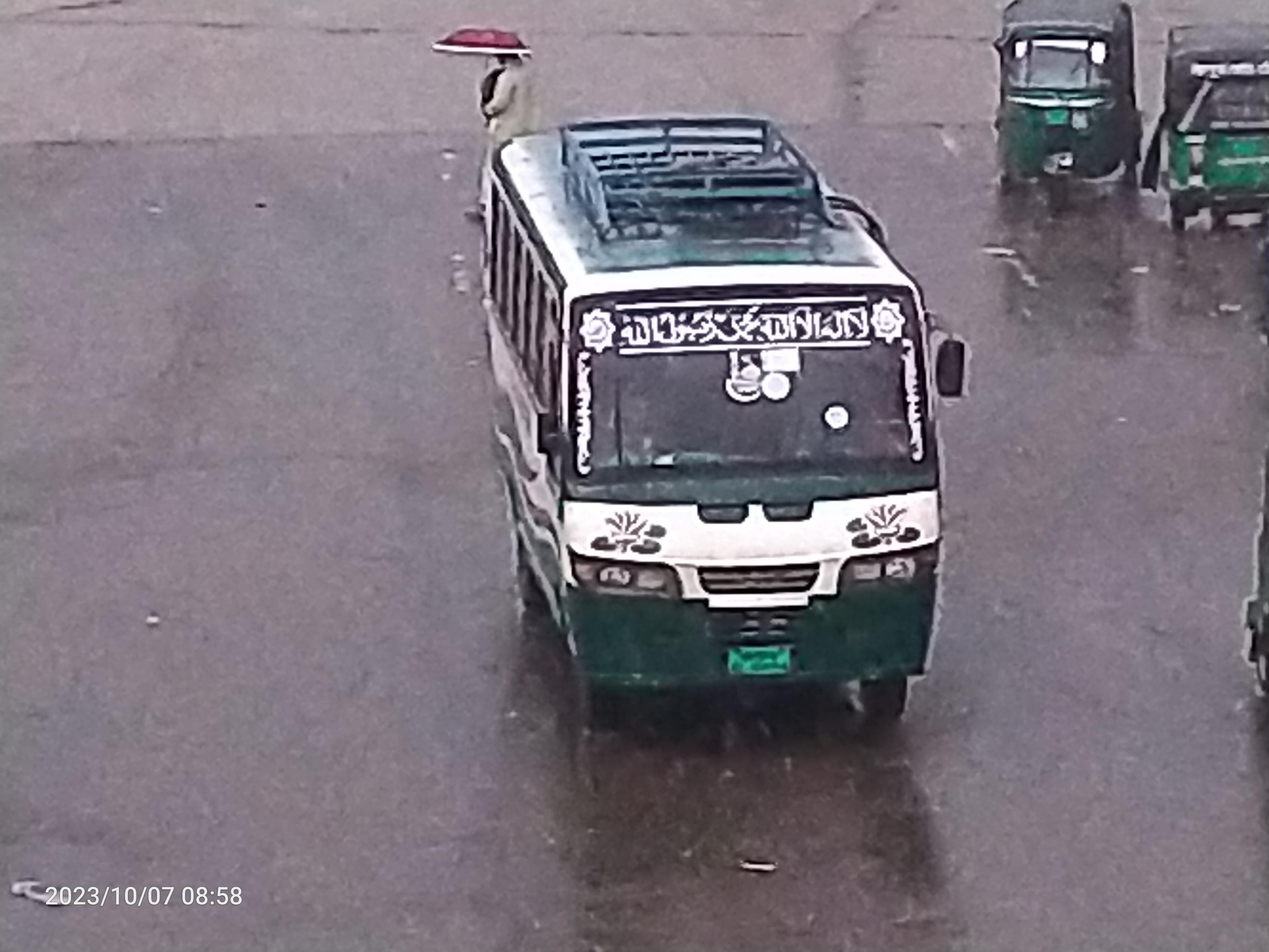Bus: (440, 87, 980, 789)
